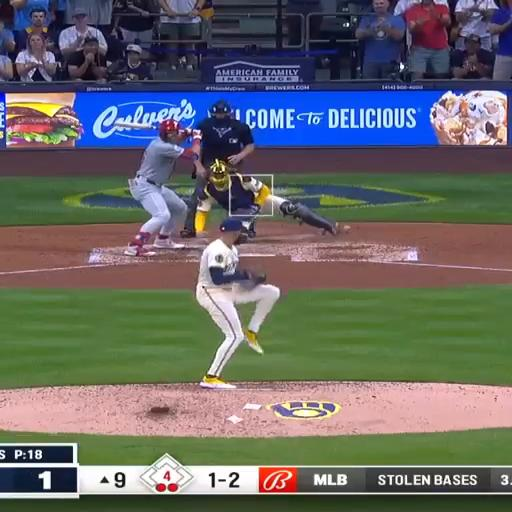bat: (114, 120, 156, 129)
